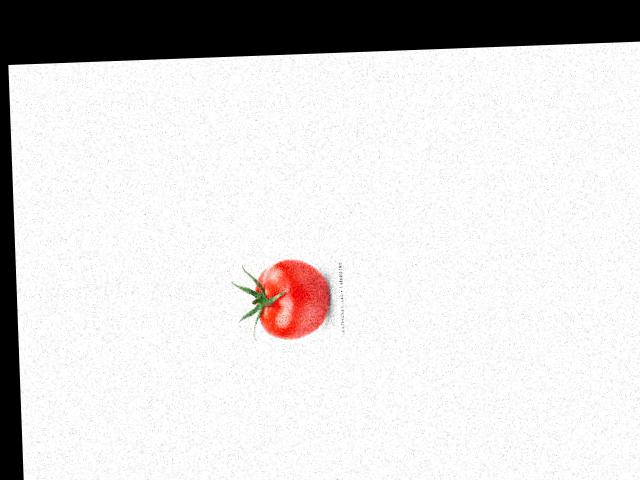tomato: (254, 257, 329, 340)
